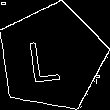L_N: (33, 30, 71, 85)
